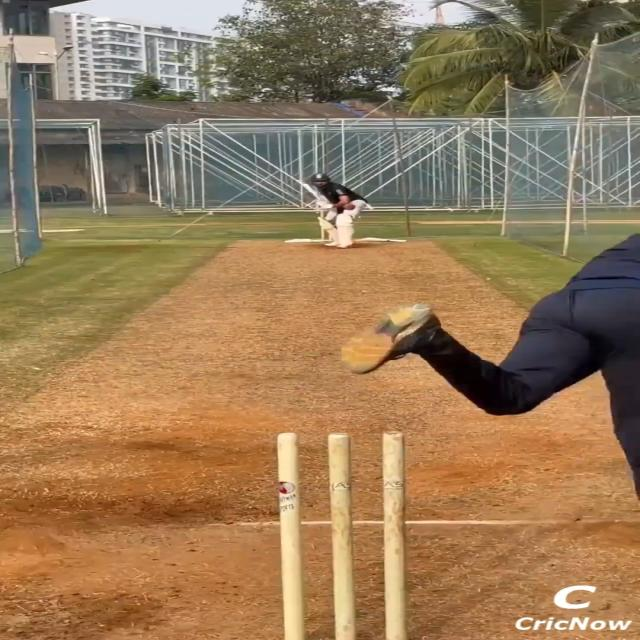ball: (342, 203, 356, 211)
stump: (270, 427, 414, 640)
